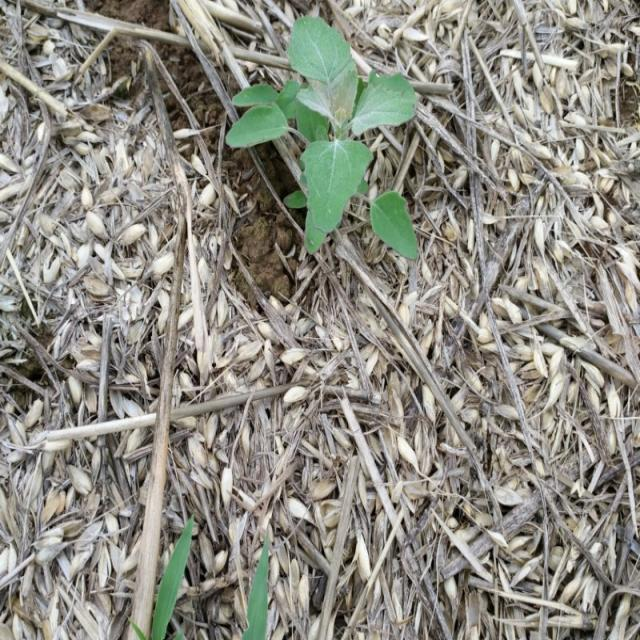goosefoots: (215, 20, 430, 285)
